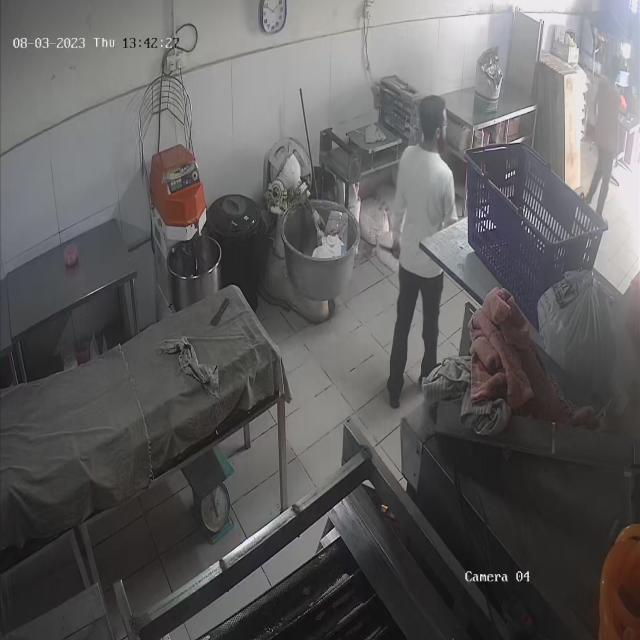Knife: (371, 233, 404, 266)
